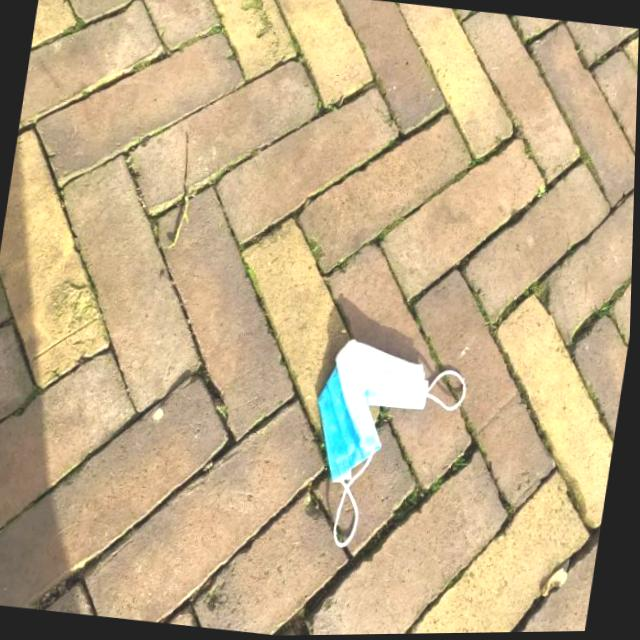Mask: (300, 325, 491, 565)
